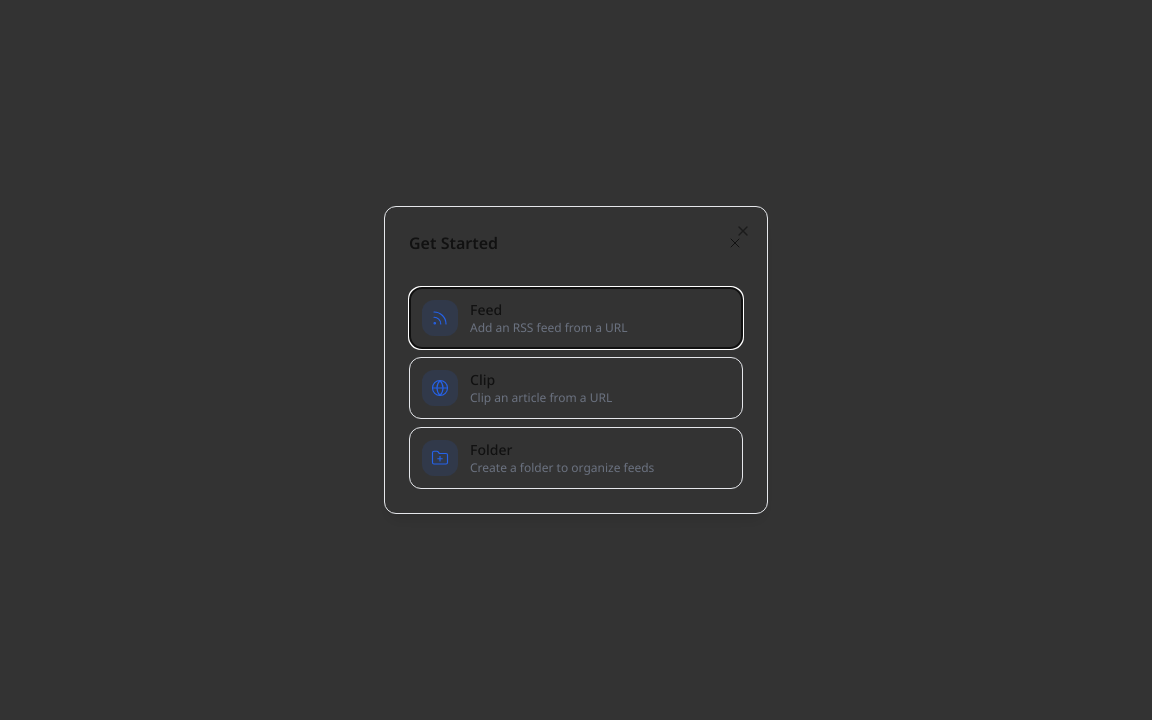
Test: FeedModal › navigates to feed step on click
Click the text "Add an RSS feed from a URL": click(549, 328) [470,320,628,336]
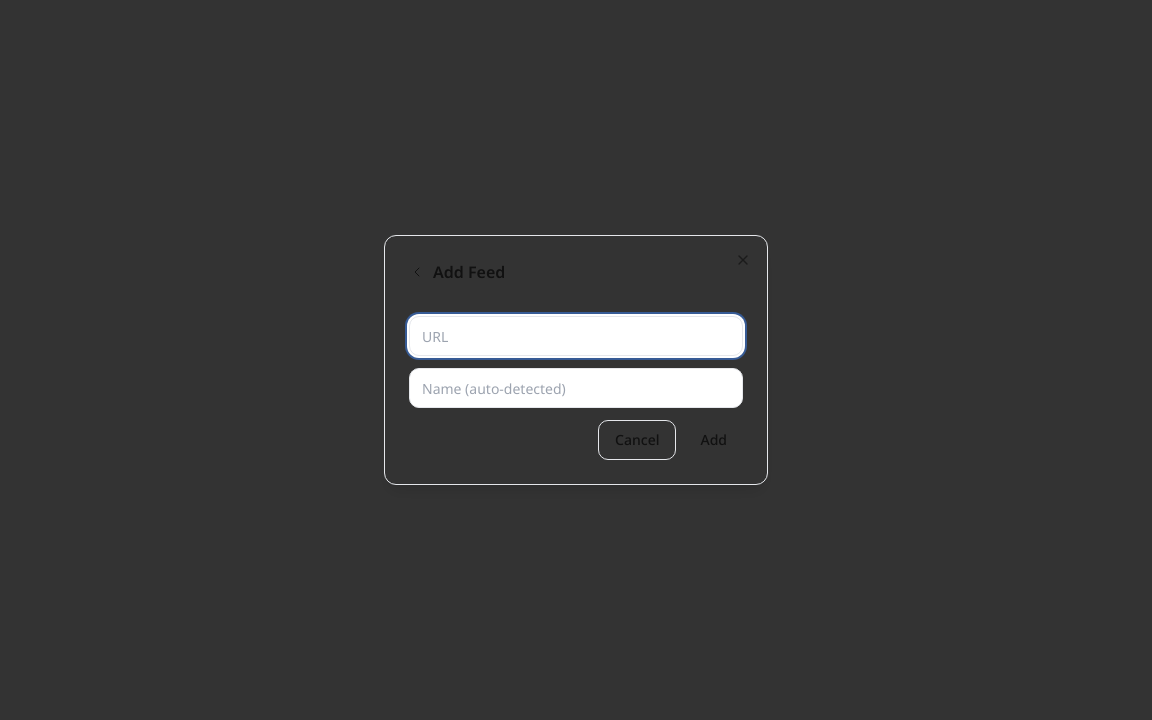
Check: the heading "Add Feed" is shown, box [433,260,505,284]
Check: the field with placeholder "URL" is shown, box [409,316,743,356]
